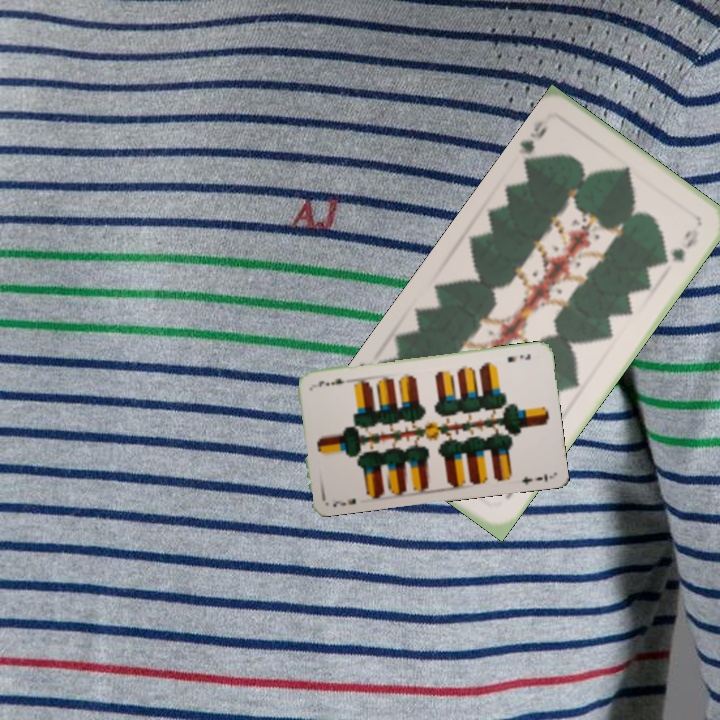E7: (328, 494, 358, 510), (503, 350, 533, 365)
G9: (514, 116, 551, 168)
